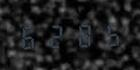eight: (70, 19, 95, 49)
five: (96, 19, 121, 48)
six: (18, 21, 43, 50)
two: (44, 20, 69, 50)
